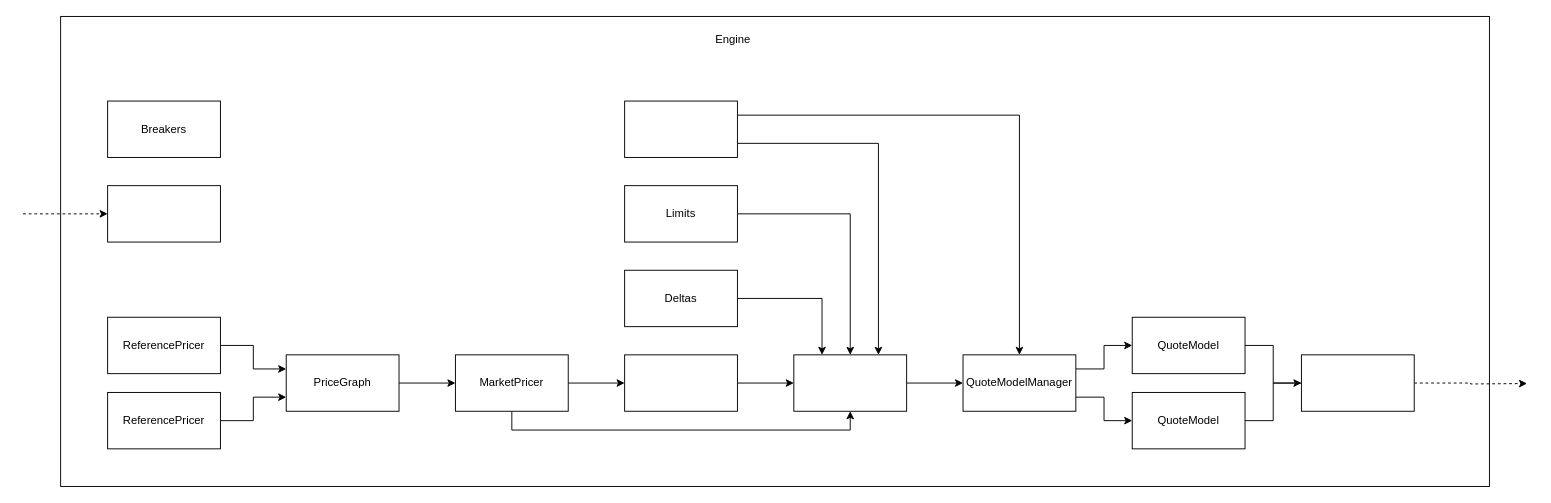
Image size: 1551x503. Some labels were removed from this diagram. The centre of each missing label's shape, as x and y in pixels:
"Egress Gateway" belongs at (x=1357, y=382).
"FairPricer" belongs at (x=850, y=382).
"Ingress Gateway (index prices)" belongs at (x=163, y=213).
"PerpParameters" belongs at (x=680, y=382).
"SpreadModel" belongs at (x=680, y=128).
